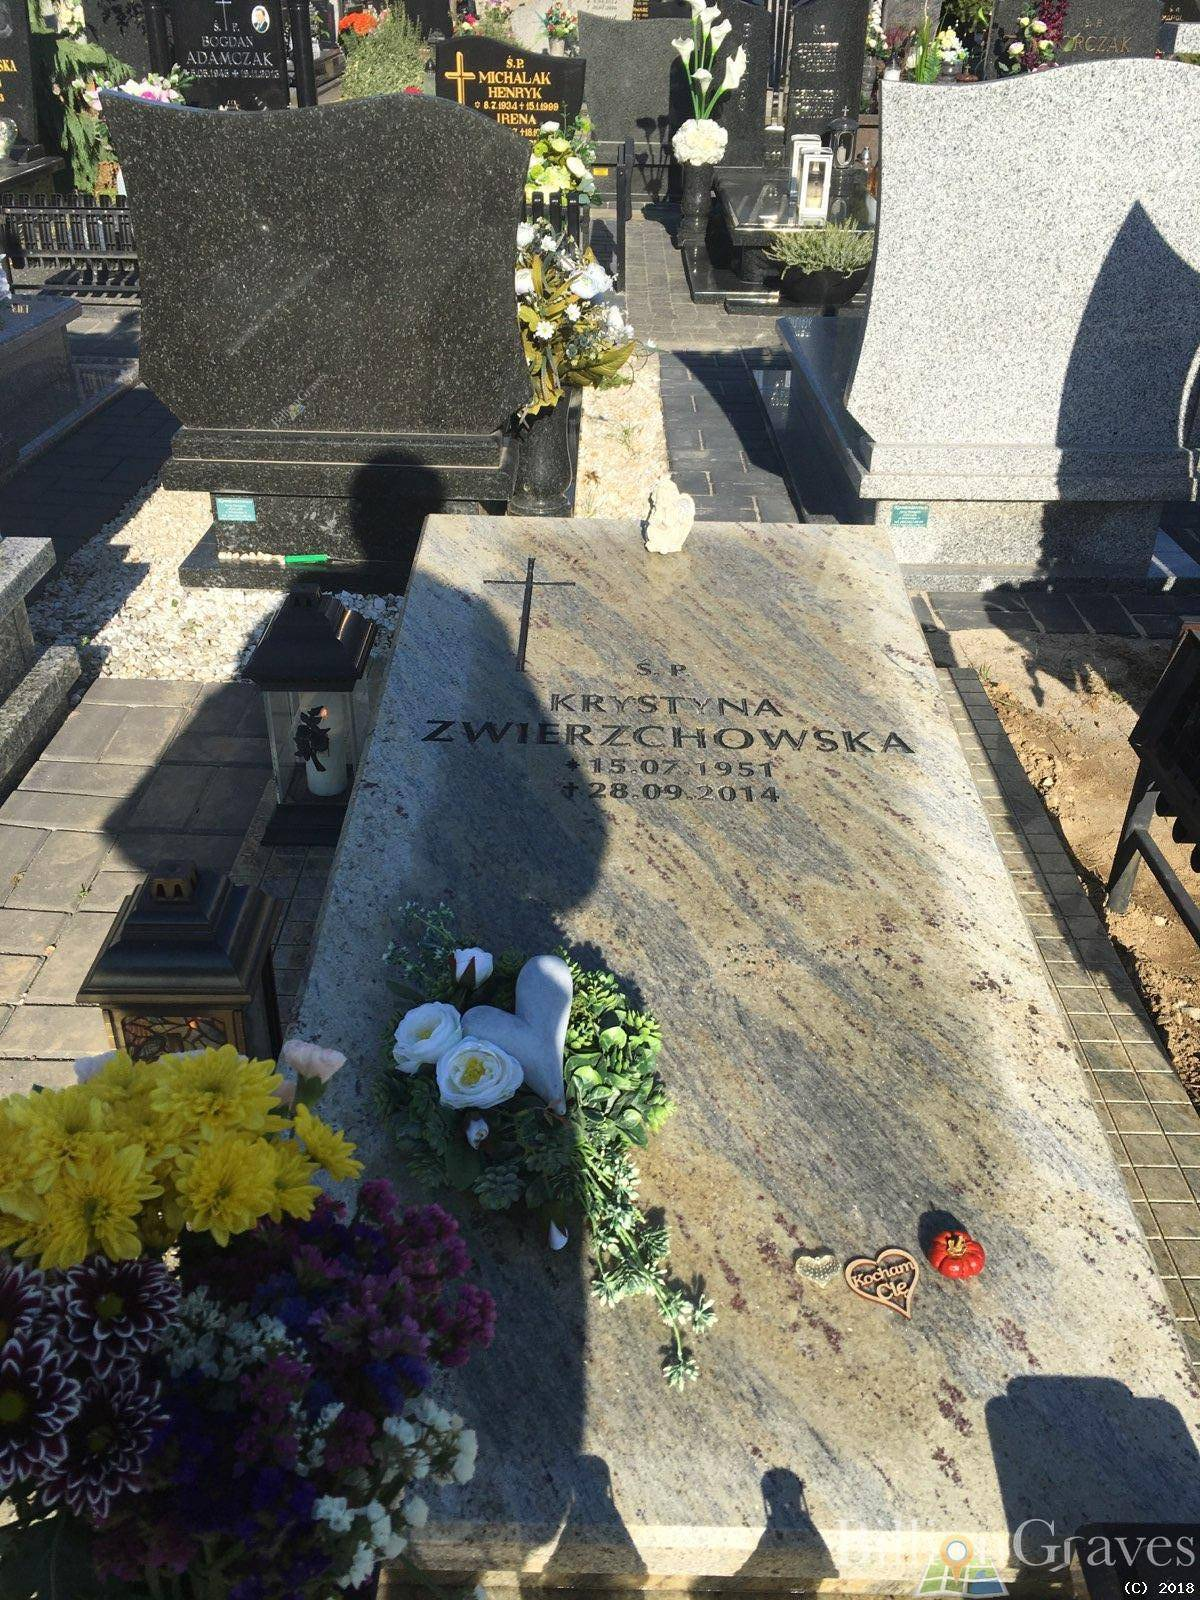vault: (247, 433, 1197, 1563)
